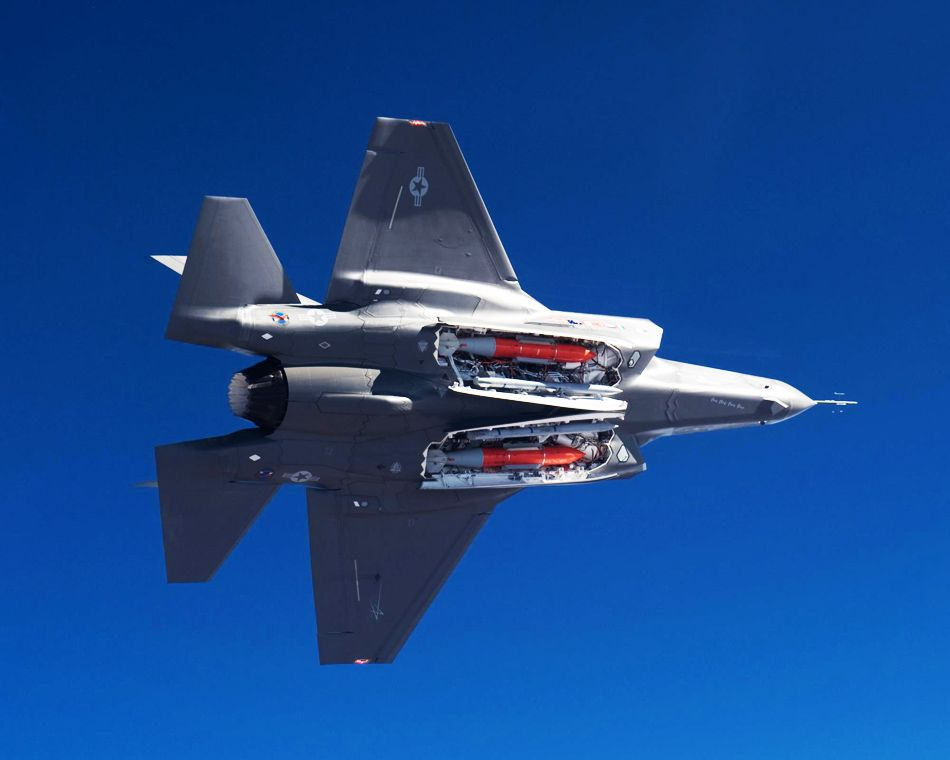airplane: (148, 114, 876, 663)
